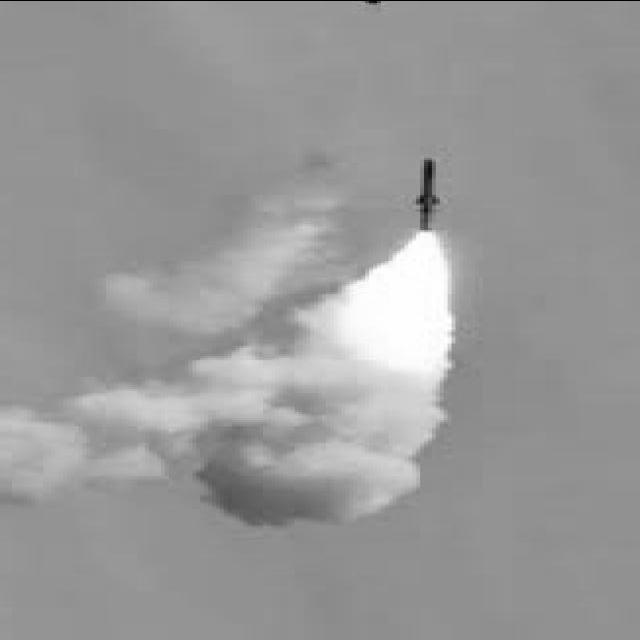Missile: (411, 150, 442, 232)
